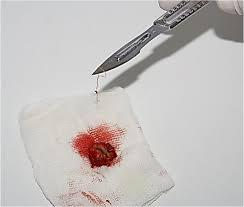Glove: (216, 0, 242, 14)
cotton: (19, 88, 173, 205), (216, 0, 242, 14), (158, 0, 179, 10)
